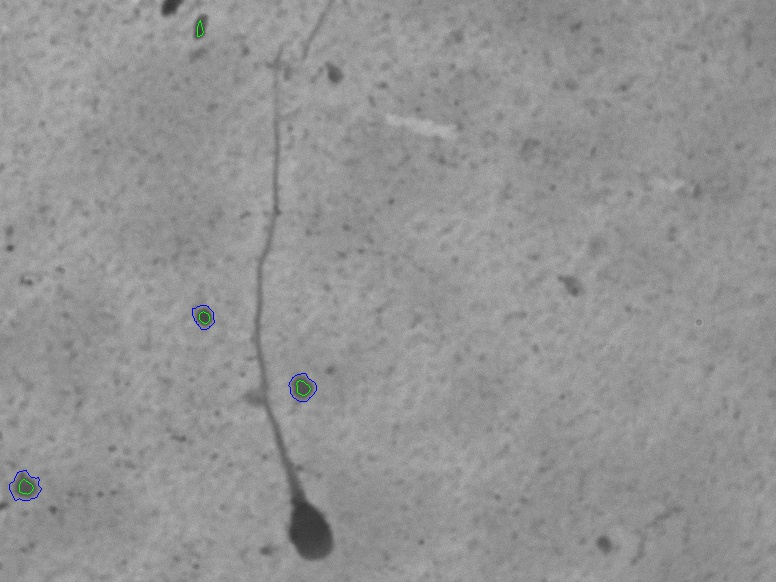Normal: (203, 63, 364, 564)
